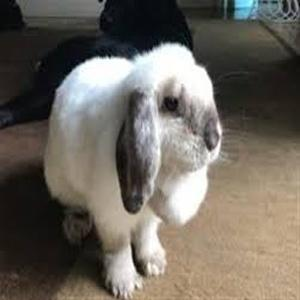rabbit: (42, 44, 223, 300)
